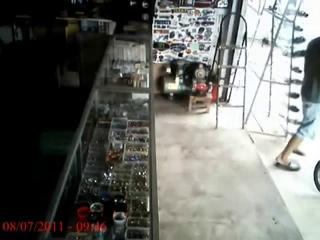Normal: (275, 37, 320, 172)
